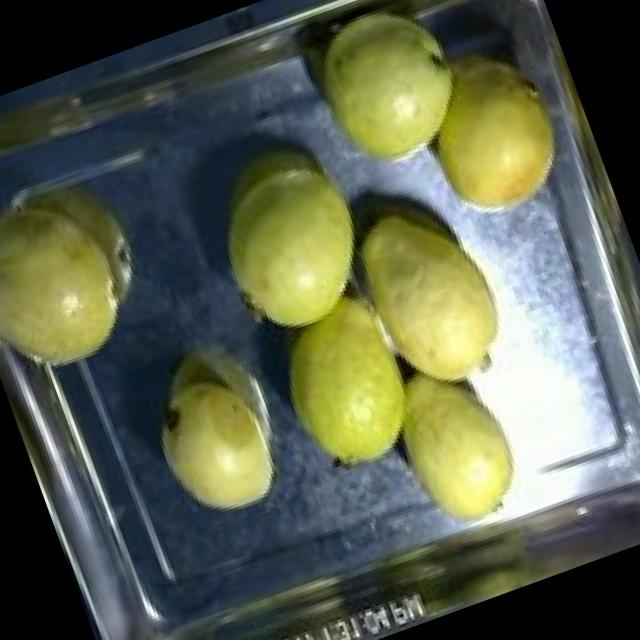Fruit: (323, 164, 541, 418), (188, 120, 402, 357), (389, 19, 595, 248), (247, 268, 446, 500), (0, 139, 171, 399), (361, 332, 550, 556), (280, 0, 493, 196), (134, 348, 306, 538)
